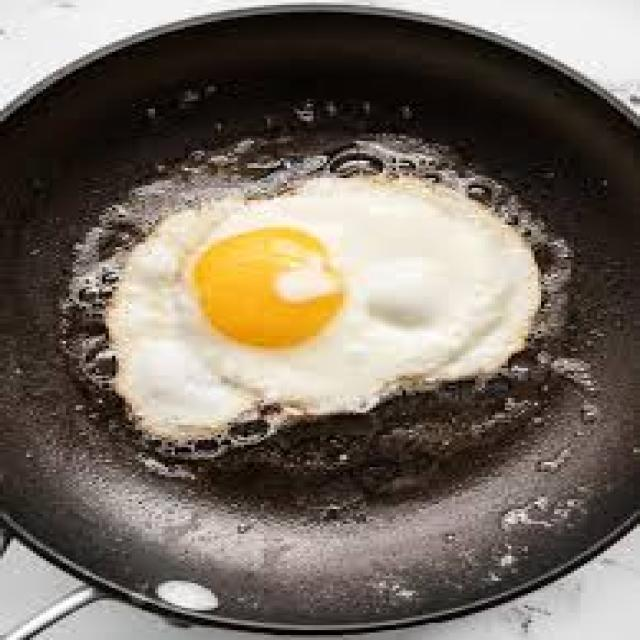Egg: (107, 175, 539, 440)
